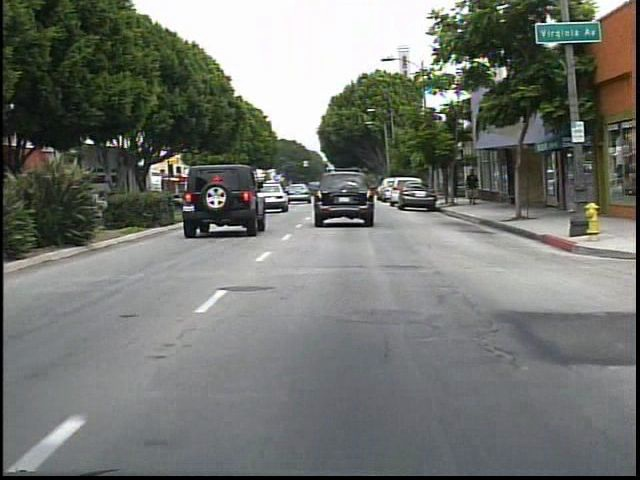person: (463, 168, 483, 208)
